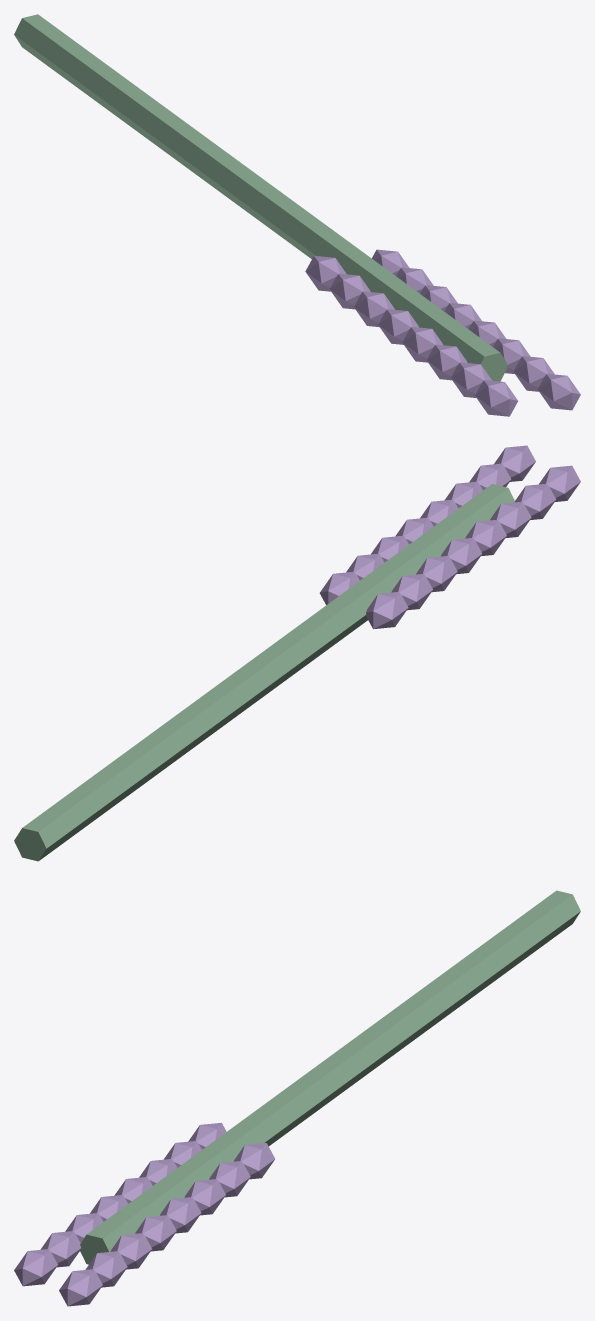
The model's file is lavender.glb.
3 views of the same model, one above another, from view 1: azimuth 30°, elevation 25°; view 2: azimuth 150°, elevation 25°; view 3: azimuth 330°, elevation 25° (orthographic).
Visible parts, largest first — view 1: world; view 2: world; view 3: world.
Boxes of the visible parts, x1,y1,x2,y2 form: world: [14, 14, 580, 416]; world: [14, 445, 580, 861]; world: [14, 890, 580, 1306].
Size of the model in its own units: 0.151 by 0.052 by 1.67.
